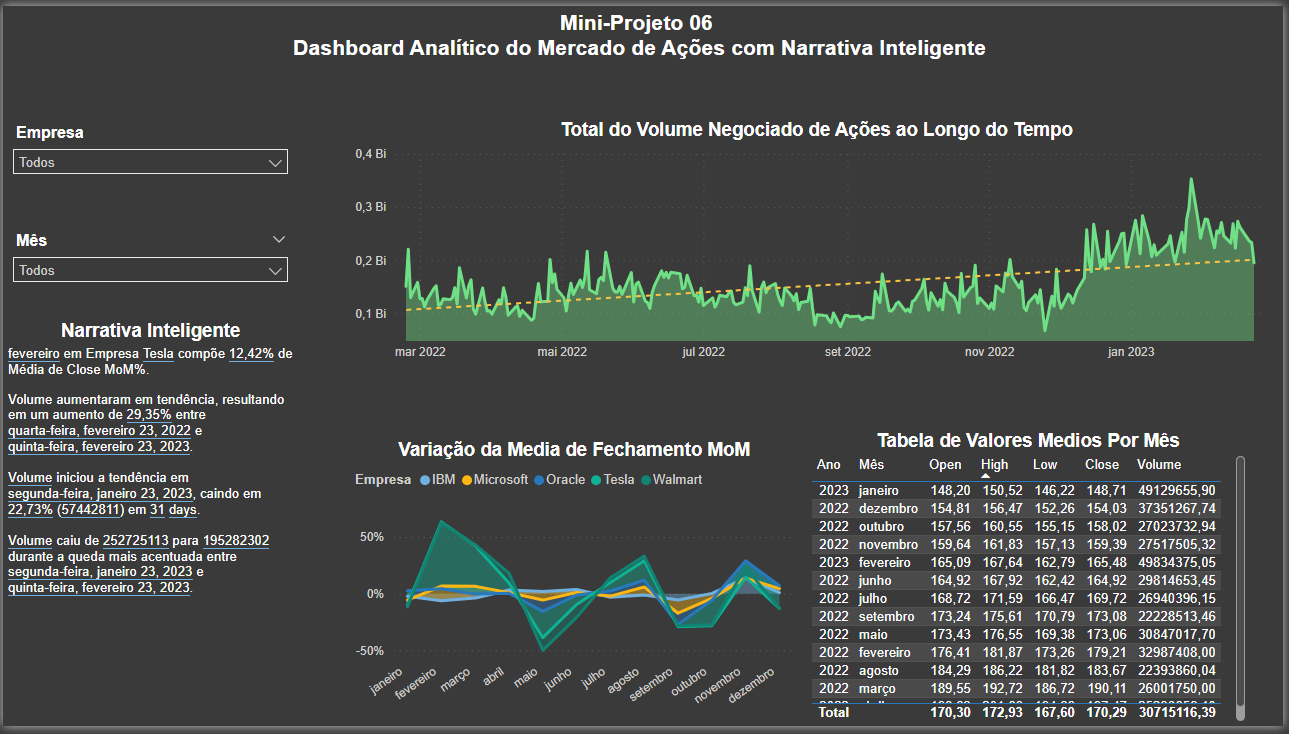

This screenshot's page, from the dashboard's own definition file:
{"tool":"powerbi","page":{"name":"Página 1","canvas":[1280,720],"ordinal":0},"visuals":[{"type":"slicer","fields":{"Values":["StockMarket.Empresa"]},"box":[0,112.8,294.6,77.9],"z":0},{"type":"textbox","box":[0,0,1273.2,74.9],"z":1000},{"type":"slicer","fields":{"Values":["StockMarket.Data.Variation.Hierarquia de datas.Mês"]},"box":[0,221.2,294.6,60],"z":2000},{"type":"areaChart","title":"Total do Volume Negociado de Ações ao Longo do Tempo","fields":{"Category":["StockMarket.Data.Variation.Hierarquia de datas.Ano","StockMarket.Data.Variation.Hierarquia de datas.Trimestre","StockMarket.Data.Variation.Hierarquia de datas.Mês","StockMarket.Data.Variation.Hierarquia de datas.Dia"],"Y":["Sum(StockMarket.Volume)"]},"box":[347.5,112.8,932.2,249],"z":4000},{"type":"tableEx","title":"Tabela de Valores Medios Por Mês","fields":{"Values":["StockMarket.Data.Variation.Hierarquia de datas.Ano","StockMarket.Data.Variation.Hierarquia de datas.Mês","Avg(StockMarket.Open)","Avg(StockMarket.High)","Avg(StockMarket.Low)","Avg(StockMarket.Close)","Avg(StockMarket.Volume)"]},"box":[803.3,423.6,444.2,296.4],"z":5000},{"type":"stackedAreaChart","title":"Variação da Media de Fechamento MoM","fields":{"Category":["StockMarket.Data.Variation.Hierarquia de datas.Mês"],"Series":["StockMarket.Empresa"],"Y":["StockMarket.Média de Close MoM%"]},"box":[347.5,432.5,447.8,287.5],"z":6000},{"type":"textbox","title":"Narrativa Inteligente","box":[0,314.3,294.6,405.7],"z":7000}]}

Visuals, with their boxes in screenshot pixels (x1, y1, x2, y2), scaled from the page's 1280x720 canvas onto the 1289x734 screenshot:
slicer - StockMarket.Empresa: 0,115,297,194
textbox: 0,0,1282,76
slicer - StockMarket.Data.Variation.Hierarquia de datas.Mês: 0,226,297,287
"Total do Volume Negociado de Ações ao Longo do Tempo" areaChart: 350,115,1288,369
"Tabela de Valores Medios Por Mês" tableEx: 809,432,1256,733
"Variação da Media de Fechamento MoM" stackedAreaChart: 350,441,801,733
"Narrativa Inteligente" textbox: 0,320,297,733
